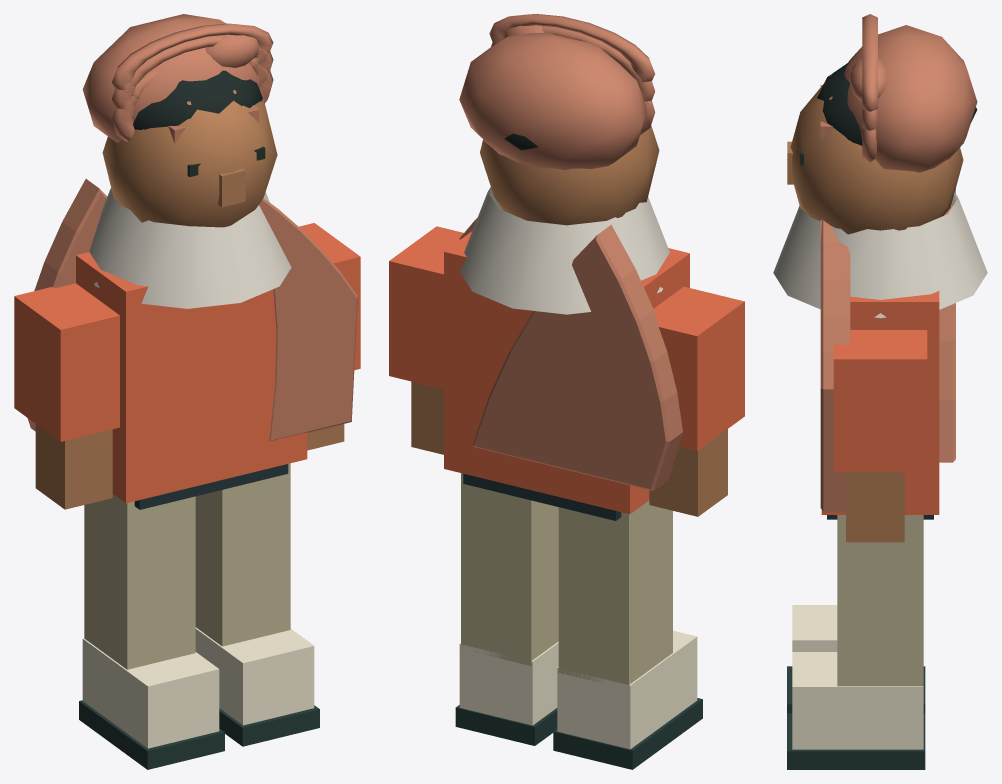
File: male-tudung-turban.glb
3 views of the same model, side by side, from view 1: azimuth 30°, elevation 25°; view 2: azimuth 150°, elevation 25°; view 3: azimuth 270°, elevation 25° (orthographic). The views are drawn at different scales.
Visible parts, largest first — view 1: male-tudung-turban, tudung-turban-scarf, tudung-neck-wrap, avatar-tudung, tudung-turban-back; view 2: male-tudung-turban, tudung-turban-back, avatar-tudung, tudung-neck-wrap; view 3: male-tudung-turban, avatar-tudung, tudung-neck-wrap, tudung-turban-scarf, tudung-turban-back.
Boxes of the visible parts, x1,y1,x2,y2 form: male-tudung-turban: (14,70,360,769); tudung-turban-scarf: (259,198,357,441); tudung-neck-wrap: (89,188,291,308); avatar-tudung: (82,14,273,143); tudung-turban-back: (27,179,107,431); male-tudung-turban: (389,125,744,769); tudung-turban-back: (472,224,682,491); avatar-tudung: (459,14,655,169); tudung-neck-wrap: (460,187,669,314); male-tudung-turban: (787,61,977,769); avatar-tudung: (820,14,977,172); tudung-neck-wrap: (773,192,987,318); tudung-turban-scarf: (820,219,850,511); tudung-turban-back: (939,188,955,462).
Bounding box in the file's own units: 1.01 × 2.22 × 0.62.
